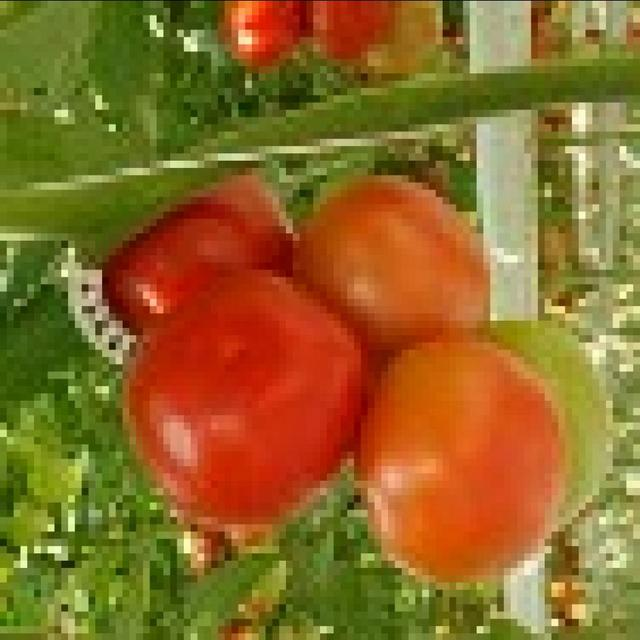Healthy Fruit: (126, 126, 306, 314)
